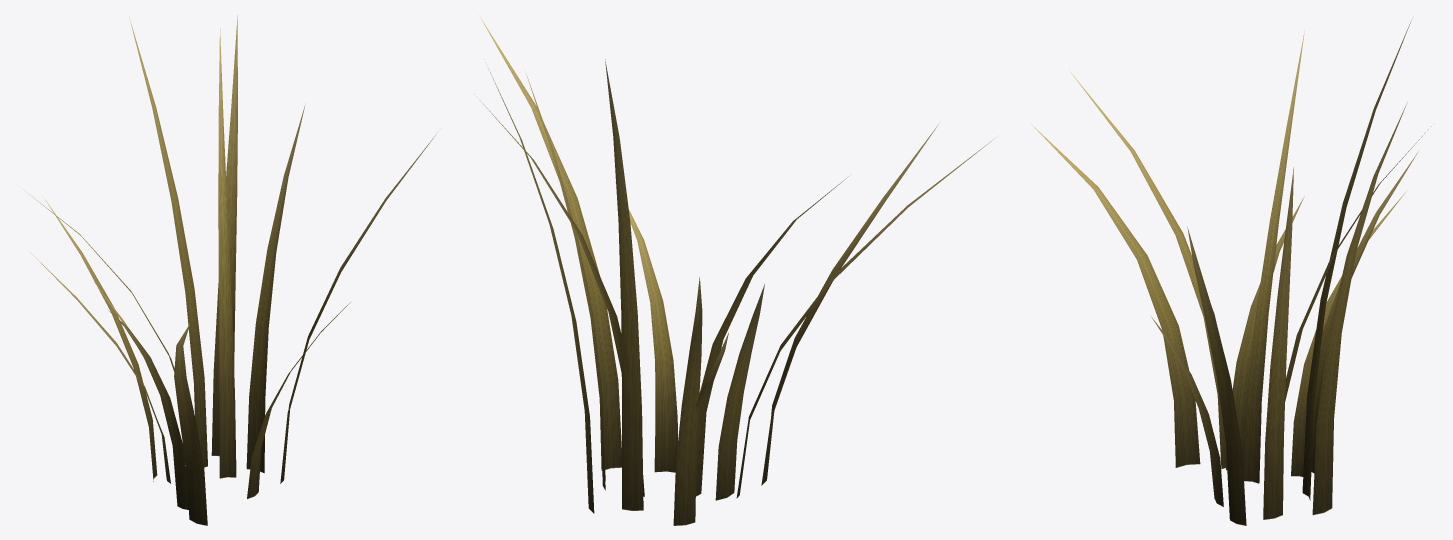
Rendered from Grass_Tuft_Dry.fbx.
3 views of the same model, side by side, from view 1: azimuth 30°, elevation 25°; view 2: azimuth 150°, elevation 25°; view 3: azimuth 270°, elevation 25° (orthographic). The views are drawn at different scales.
Parts seen in each view (by area): view 1: Grass_Tuft_Dry; view 2: Grass_Tuft_Dry; view 3: Grass_Tuft_Dry.
Boxes of the visible parts, box(x1,y1,x2,y2) form: Grass_Tuft_Dry: box(24, 15, 437, 525); Grass_Tuft_Dry: box(474, 17, 994, 525); Grass_Tuft_Dry: box(1031, 20, 1431, 525).
Size of the model in its own units: 2.15 by 2.25 by 1.77.
1 material, 1 textured.
